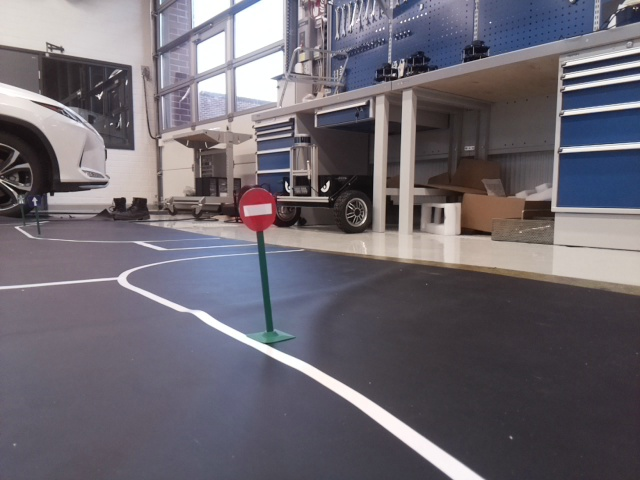NoEntry: (236, 190, 275, 230)
